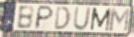B: (16, 4, 35, 30)
D: (54, 6, 72, 31)
M: (108, 7, 132, 33), (90, 7, 112, 32)
P: (33, 5, 55, 31)
U: (72, 7, 92, 32)
